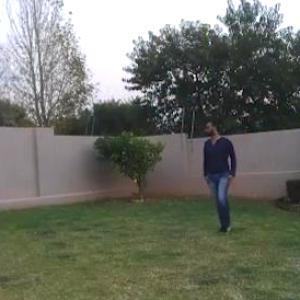follow: (195, 109, 242, 245)
